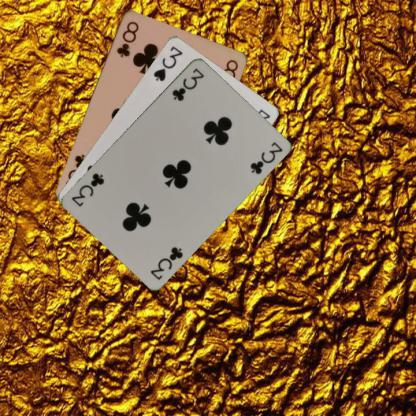3c: (148, 243, 184, 281), (169, 66, 206, 102)
3s: (150, 42, 184, 82)
8c: (113, 18, 140, 59)
